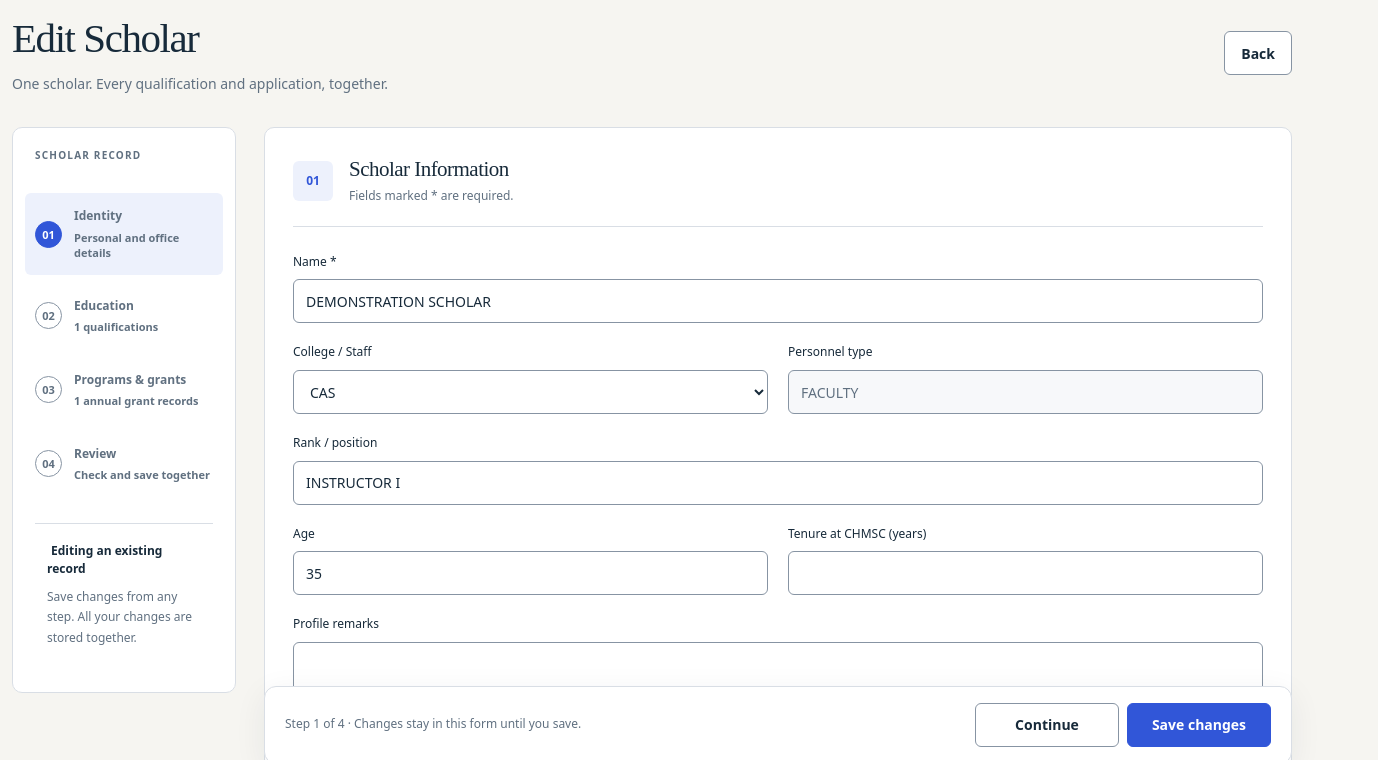
Scenario: a rejected grant field opens Programs and grants after saving Identity
expect the field labelled "Name *" is shown: met, box [293,279,1263,323]
Step 1. Click the button "Save changes" → {"x": 1199, "y": 725}, box [1127,703,1271,747]
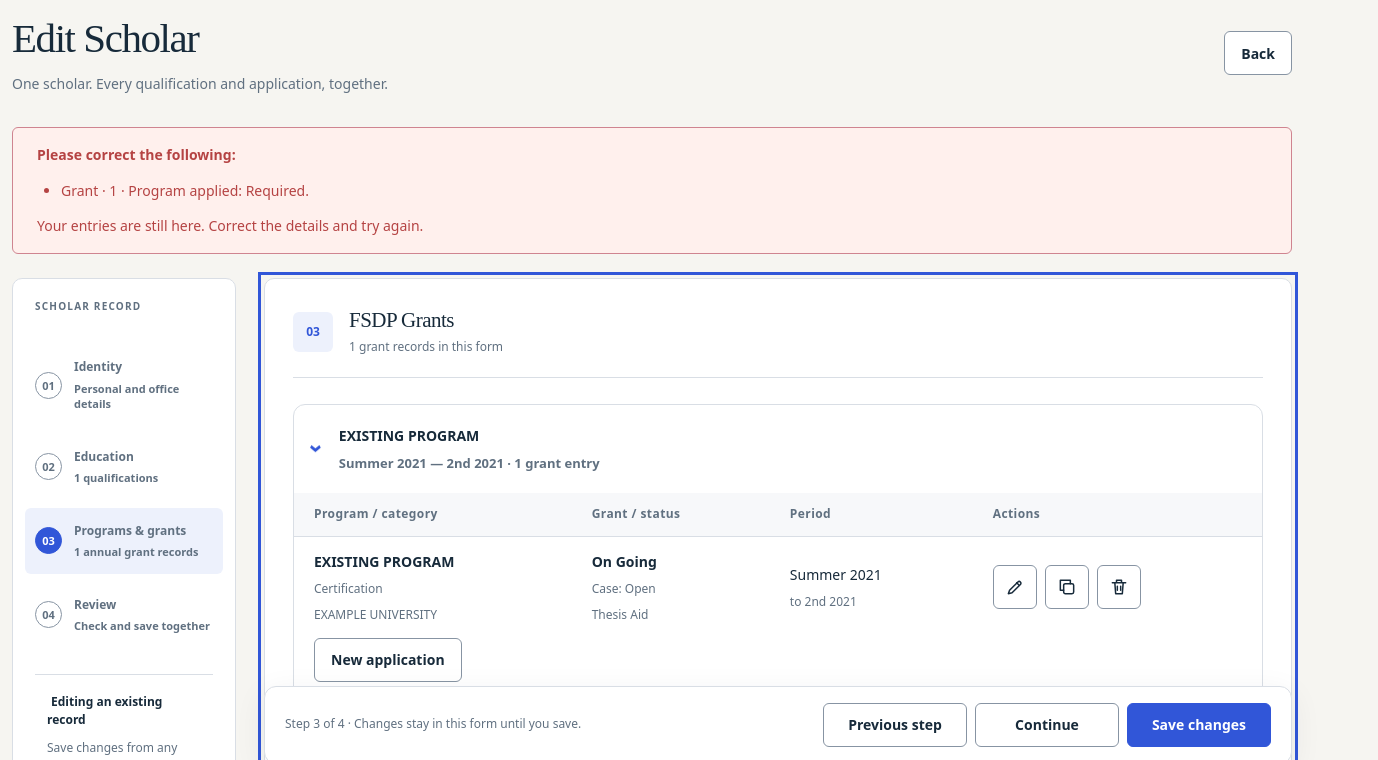
expect the message that starts with "Please correct the following:" is shown: met, box [12,127,1292,254]
expect the heading "FSDP Grants" is shown: met, box [349,308,454,332]
expect the text "EXISTING PROGRAM" next to "On Going" is shown: met, box [314,552,454,570]
